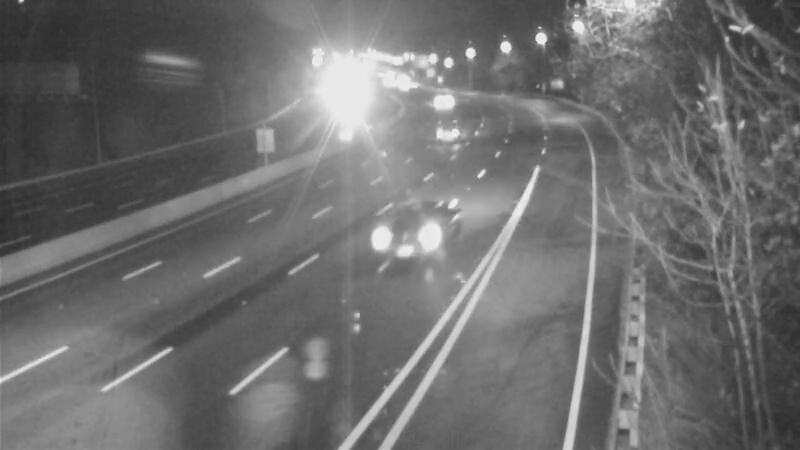vehicle: (383, 197, 463, 277), (412, 70, 462, 120), (418, 114, 468, 164), (316, 81, 366, 131)
